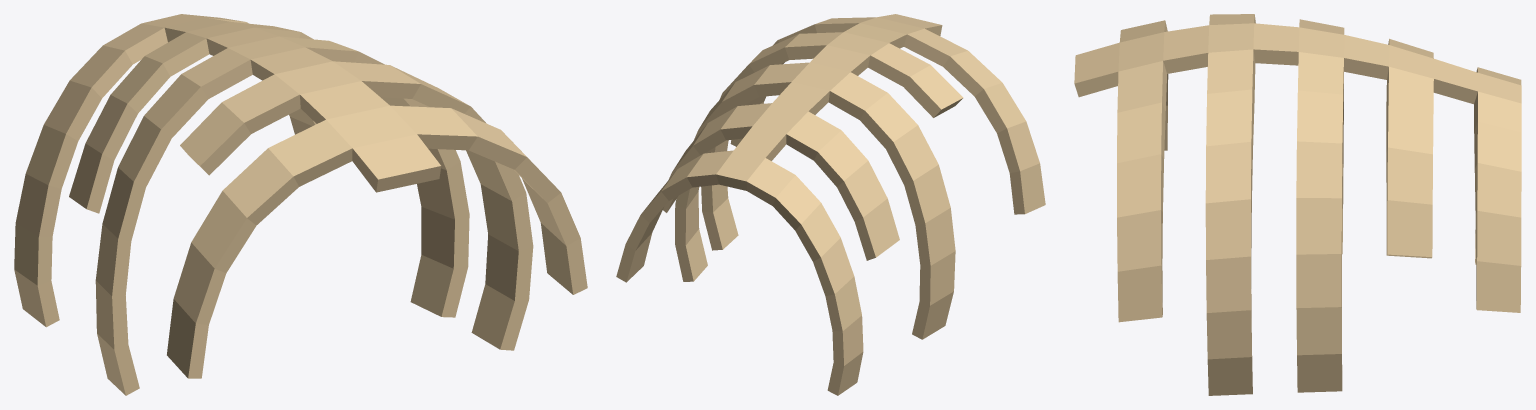
File: rib_cage.glb
The picture shows the model from 3 angles, left to right: view 1: azimuth 30°, elevation 25°; view 2: azimuth 150°, elevation 25°; view 3: azimuth 270°, elevation 25°; orthographic projection. The views are drawn at different scales.
Parts seen in each view (by area): view 1: Bone_Ribs_3; view 2: Bone_Ribs_3; view 3: Bone_Ribs_3.
Boxes of the visible parts, x1=… form: Bone_Ribs_3: x1=14, y1=14, x2=587, y2=395; Bone_Ribs_3: x1=616, y1=14, x2=1045, y2=395; Bone_Ribs_3: x1=1074, y1=14, x2=1521, y2=395.
Bounding box in the file's own units: 0.9576 × 0.7314 × 1.04.
1 material, 1 textured.
